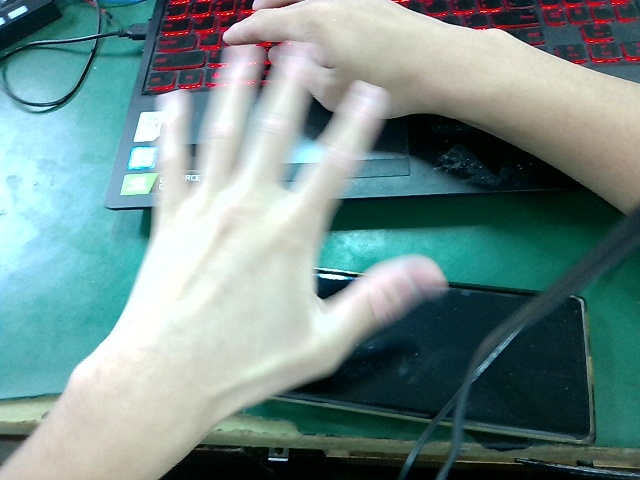paper: (91, 46, 440, 401)
